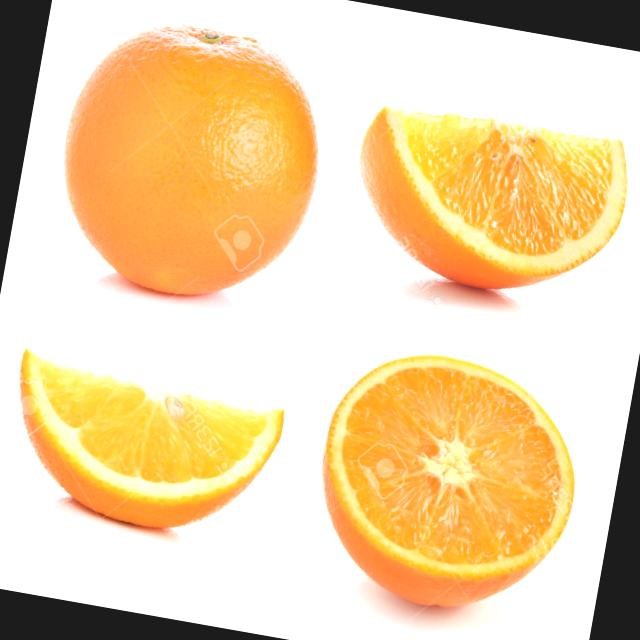orange: (27, 0, 340, 319)
